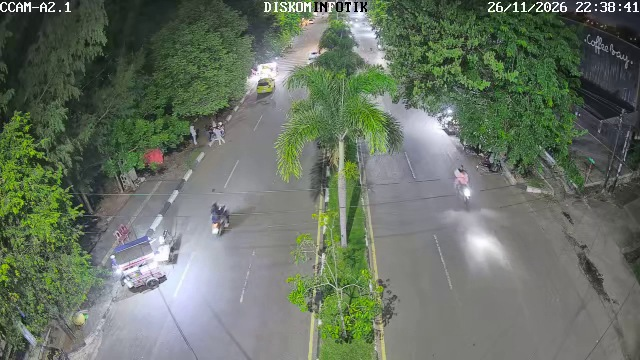Gerobak: (110, 230, 175, 289)
